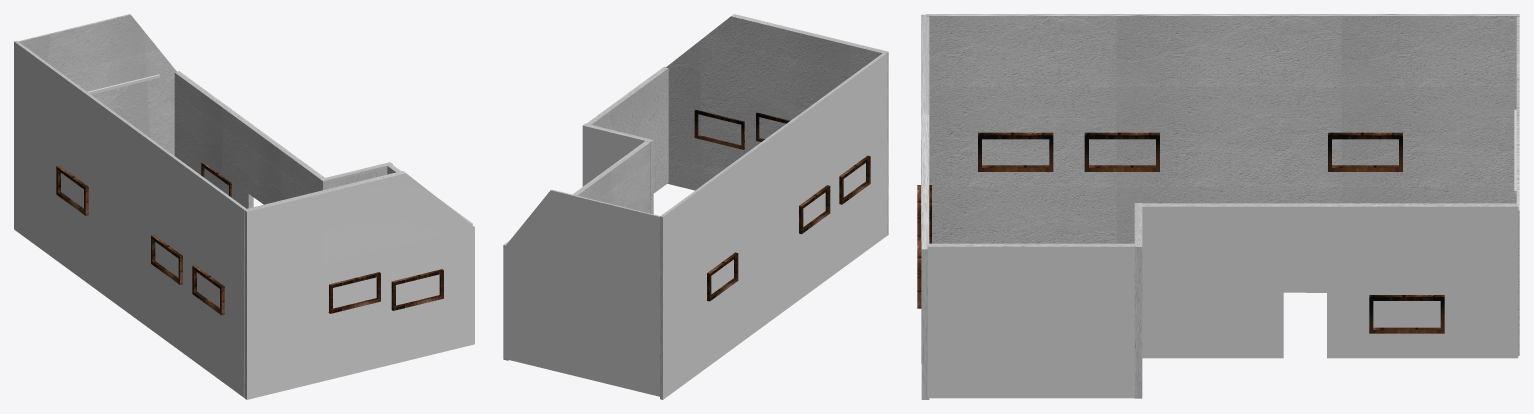
The model's file is LibraryShellwWinBetter.fbx.
3 views of the same model, side by side, from view 1: azimuth 30°, elevation 25°; view 2: azimuth 150°, elevation 25°; view 3: azimuth 270°, elevation 25° (orthographic). The views are drawn at different scales.
Parts seen in each view (by area): view 1: Cube.044, Cube.072, Cube.071, Cube.066, Cube.068, Cube.067; view 2: Cube.044, Cube.072, Cube.067, Cube.068, Cube.066; view 3: Cube.044, Cube.067, Cube.068, Cube.066, Cube.065.
Part boxes in pixels (x1,y1,x2,y2): Cube.044: (14,14,474,399); Cube.072: (391,269,443,310); Cube.071: (328,272,380,313); Cube.066: (56,165,88,215); Cube.068: (192,265,224,315); Cube.067: (151,234,182,284); Cube.044: (503,14,888,399); Cube.072: (694,110,744,149); Cube.067: (799,185,830,234); Cube.068: (839,155,870,204); Cube.066: (707,252,738,301); Cube.044: (921,14,1519,399); Cube.067: (1084,132,1159,171); Cube.068: (978,132,1053,171); Cube.066: (1328,132,1402,171); Cube.065: (1369,295,1444,333).
Bounding box in the file's own units: 2499 × 1937 × 4361.
